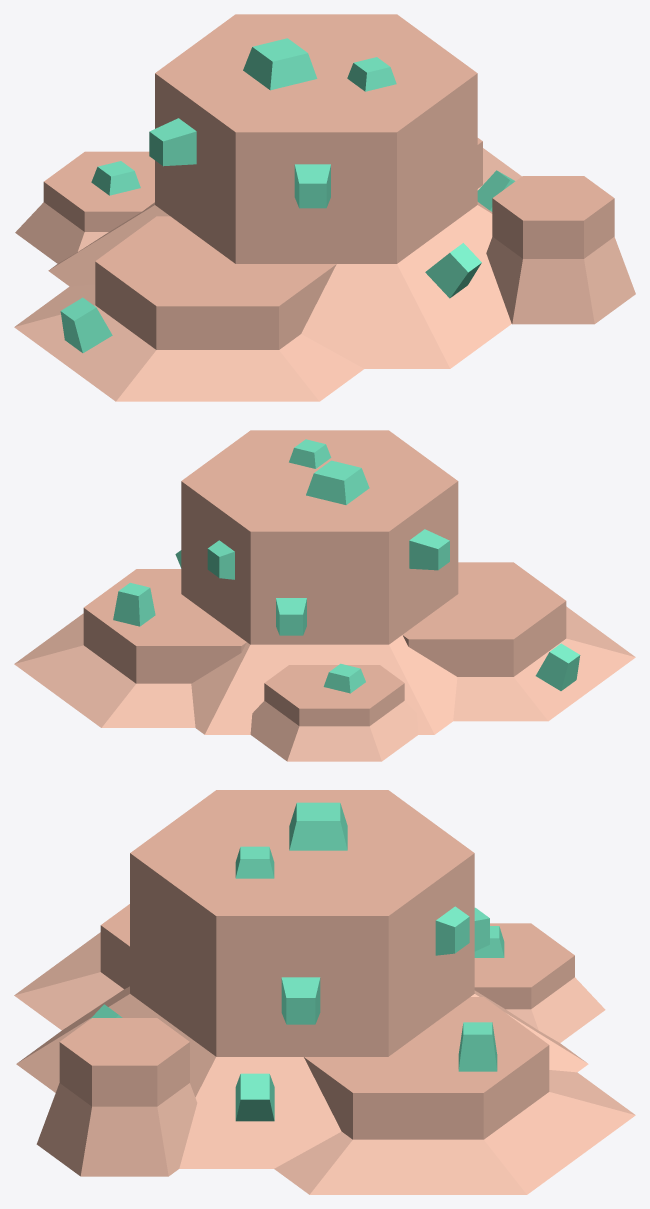
Rendered from rock_crystals.glb.
3 views of the same model, one above another, from view 1: azimuth 30°, elevation 25°; view 2: azimuth 150°, elevation 25°; view 3: azimuth 270°, elevation 25° (orthographic). The views are drawn at different scales.
Visible parts, largest first — view 1: rock_crystals; view 2: rock_crystals; view 3: rock_crystals.
Part boxes in pixels (<box>): rock_crystals: <box>14,14,635,401</box>; rock_crystals: <box>14,430,635,761</box>; rock_crystals: <box>14,790,635,1194</box>.
Bounding box in the file's own units: 0.8509 × 0.3375 × 0.8015.
1 material, 1 textured.
